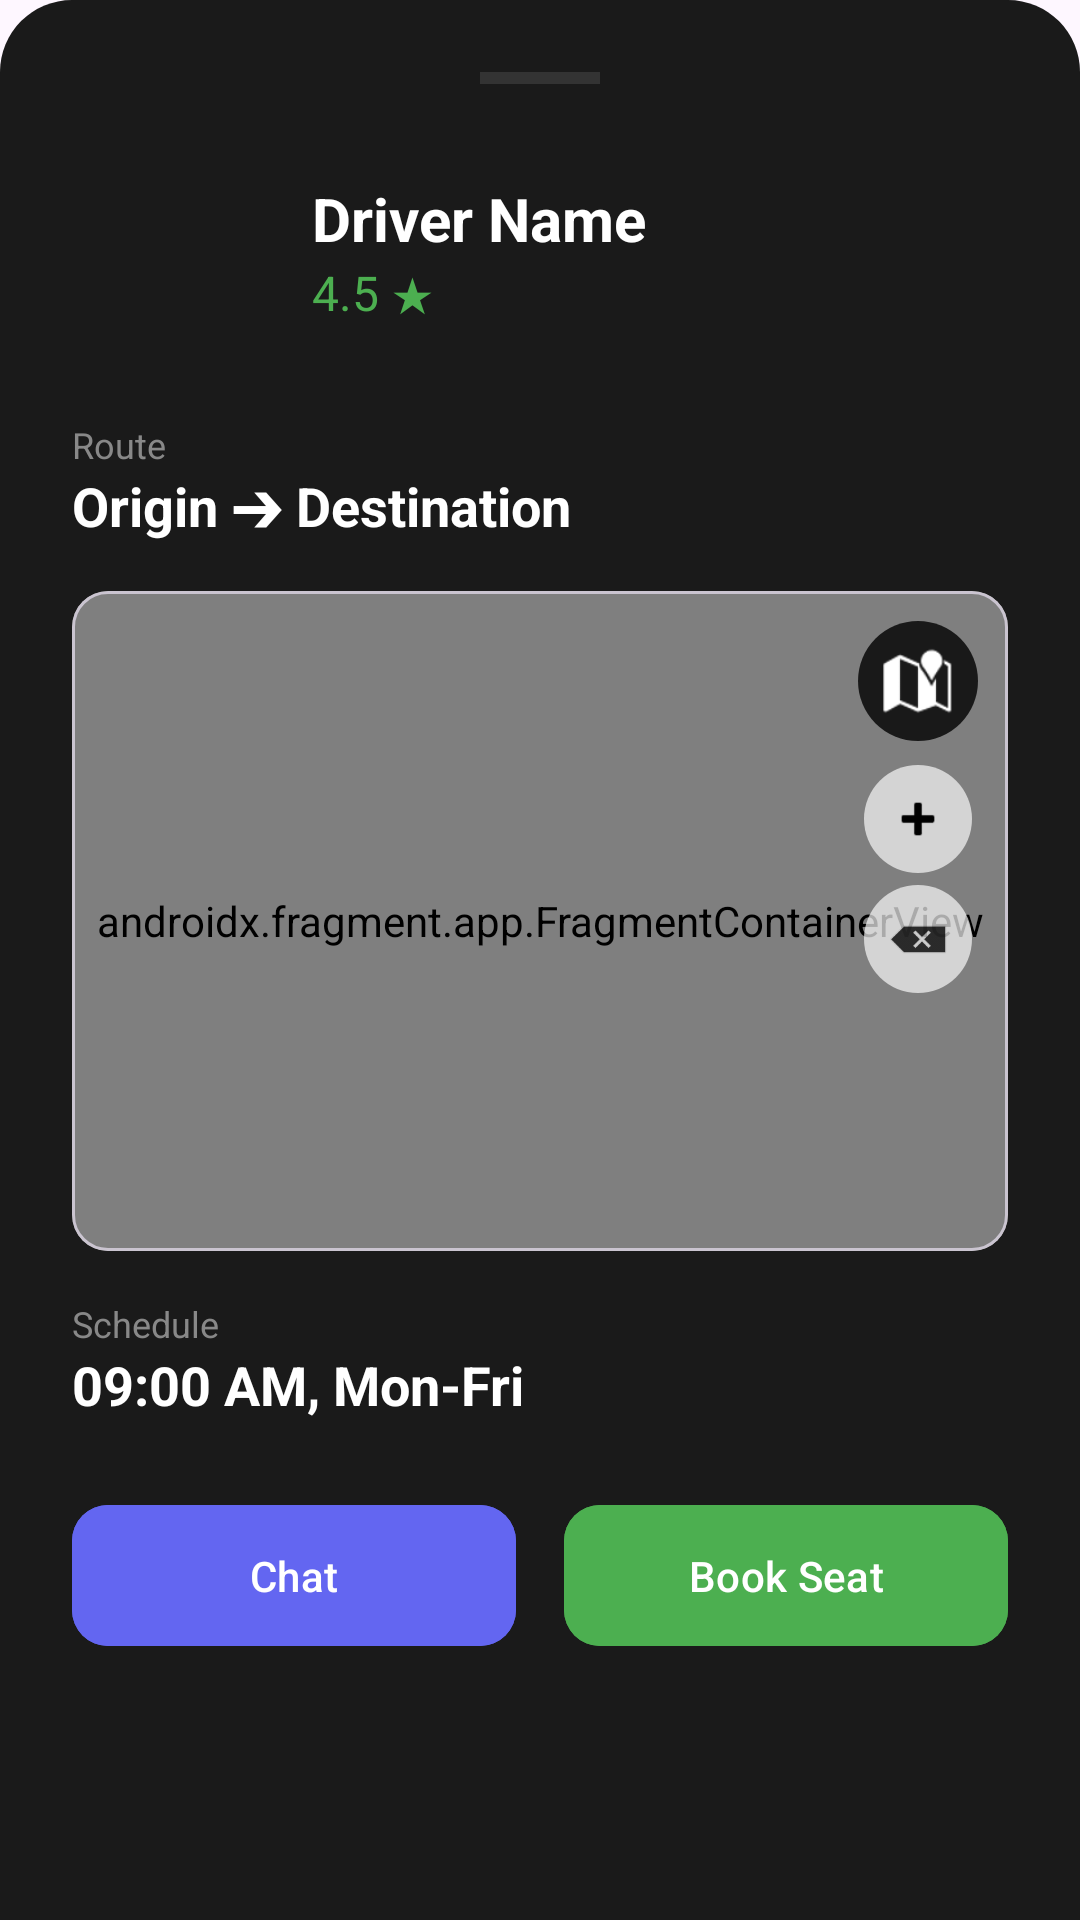

Screen size 1080 x 1920. Icon name, then its center in pixels as [x,y]:
add: [918,819]
delete: [918,939]
map: [918,681]
